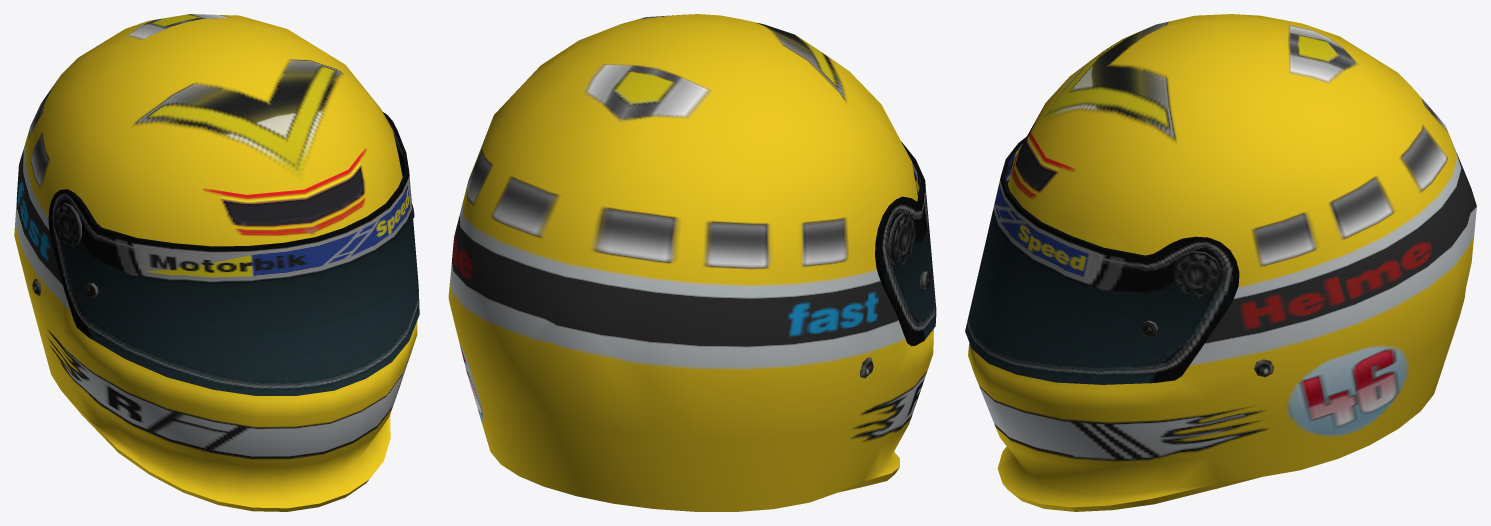
Rendered from Helmet 1.FBX.
The picture shows the model from 3 angles, left to right: view 1: azimuth 30°, elevation 25°; view 2: azimuth 150°, elevation 25°; view 3: azimuth 270°, elevation 25°; orthographic projection. The views are drawn at different scales.
Parts seen in each view (by area): view 1: Helmet, Helmet window; view 2: Helmet, Helmet window; view 3: Helmet, Helmet window.
Part boxes in pixels (x1,y1,x2,y2): Helmet: [14, 14, 417, 511]; Helmet window: [48, 112, 419, 395]; Helmet: [448, 14, 933, 511]; Helmet window: [875, 141, 936, 346]; Helmet: [968, 14, 1476, 511]; Helmet window: [965, 137, 1239, 384].
Size of the model in its own units: 16.47 by 18.9 by 20.
Materials: 1 (1 with a texture image).
